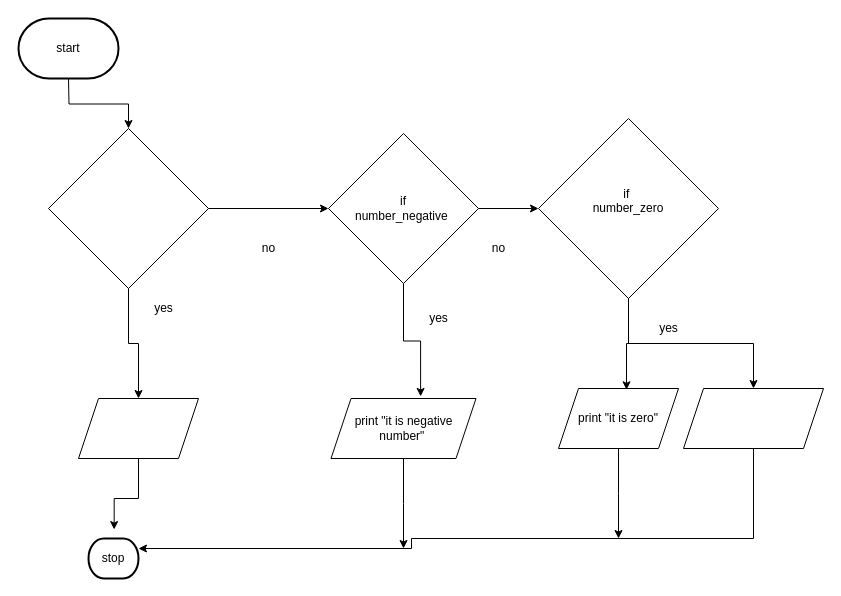
This 841x596 diagram has some shape labels left out. Here are the shapes that lost their labels. From the top down, the centre of each, then its label:
[128,208]: if number_positive
[138,428]: print "it is positive number"
[753,418]: print "i have no idea "
